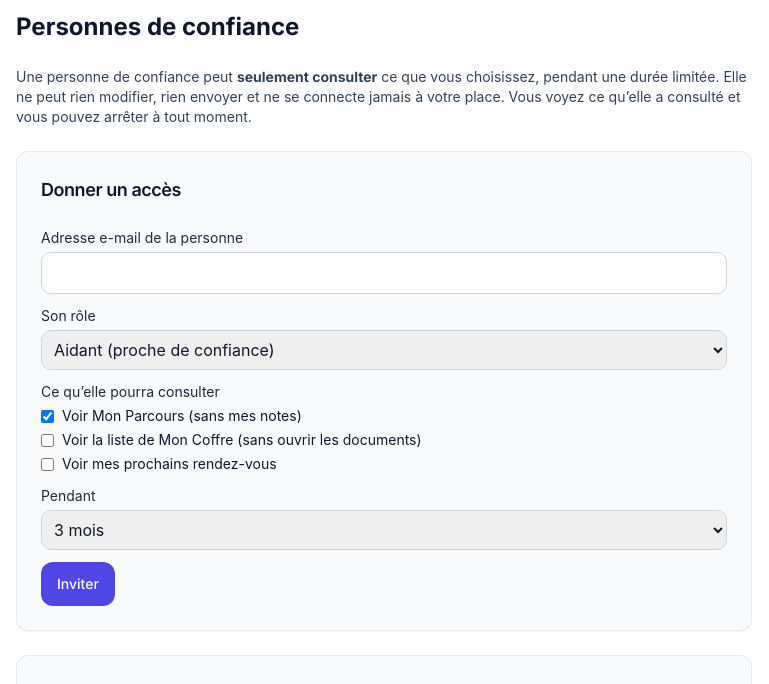
Test: Personnes de confiance › a legal mandate says plainly that its proof cannot be verified yet
Step 1. Select "Tuteur" in the dropdown with test id "delegation-role" → (384, 350), box [41,330,727,370]
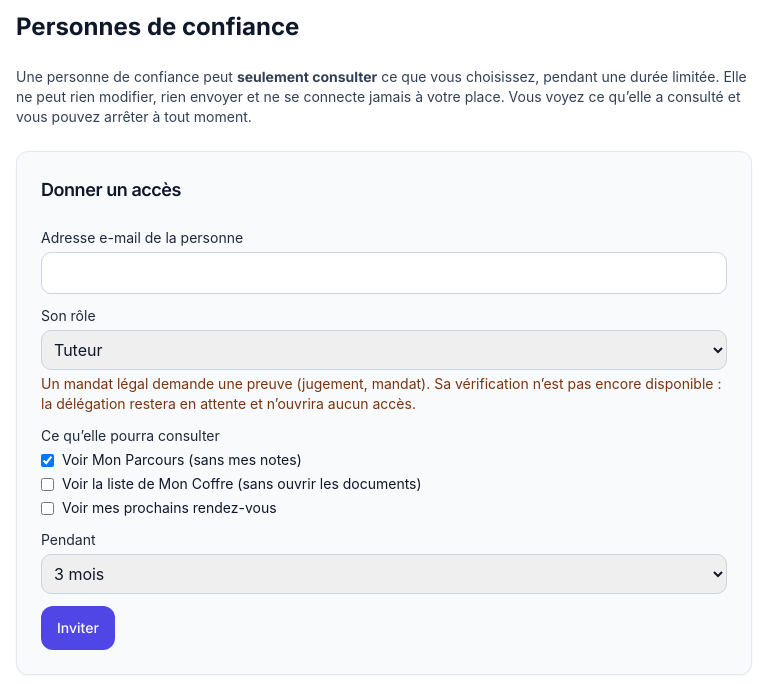
Now the text with test id "delegation-proof-notice" shows "n’ouvrira aucun accès", box [41,375,721,412]
